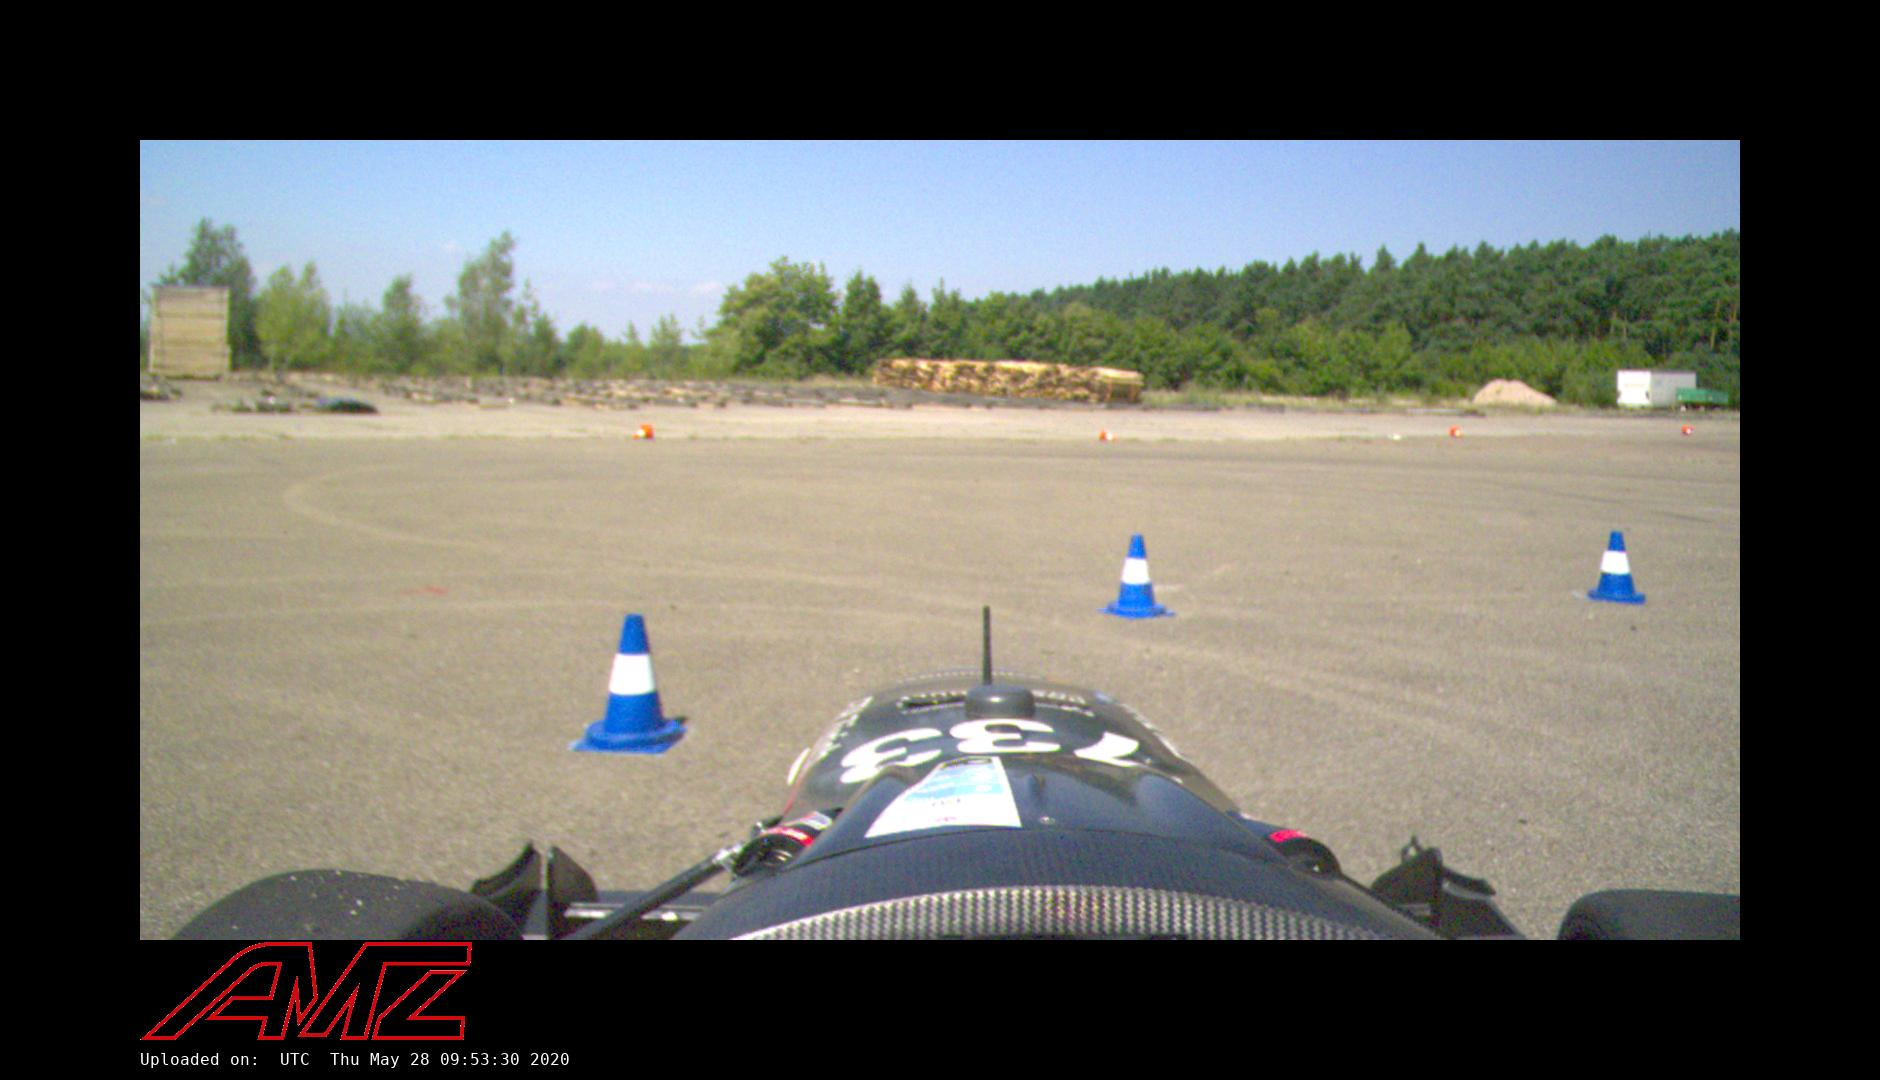blue_cone: (571, 614, 688, 754), (1098, 534, 1174, 619), (1586, 528, 1646, 603)
orange_cone: (631, 424, 655, 441), (1099, 430, 1118, 442), (1449, 425, 1464, 438), (1682, 425, 1693, 435)
